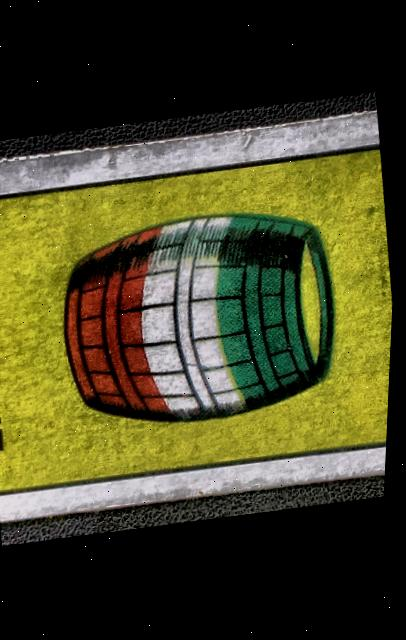El Barril: (0, 119, 402, 511)
